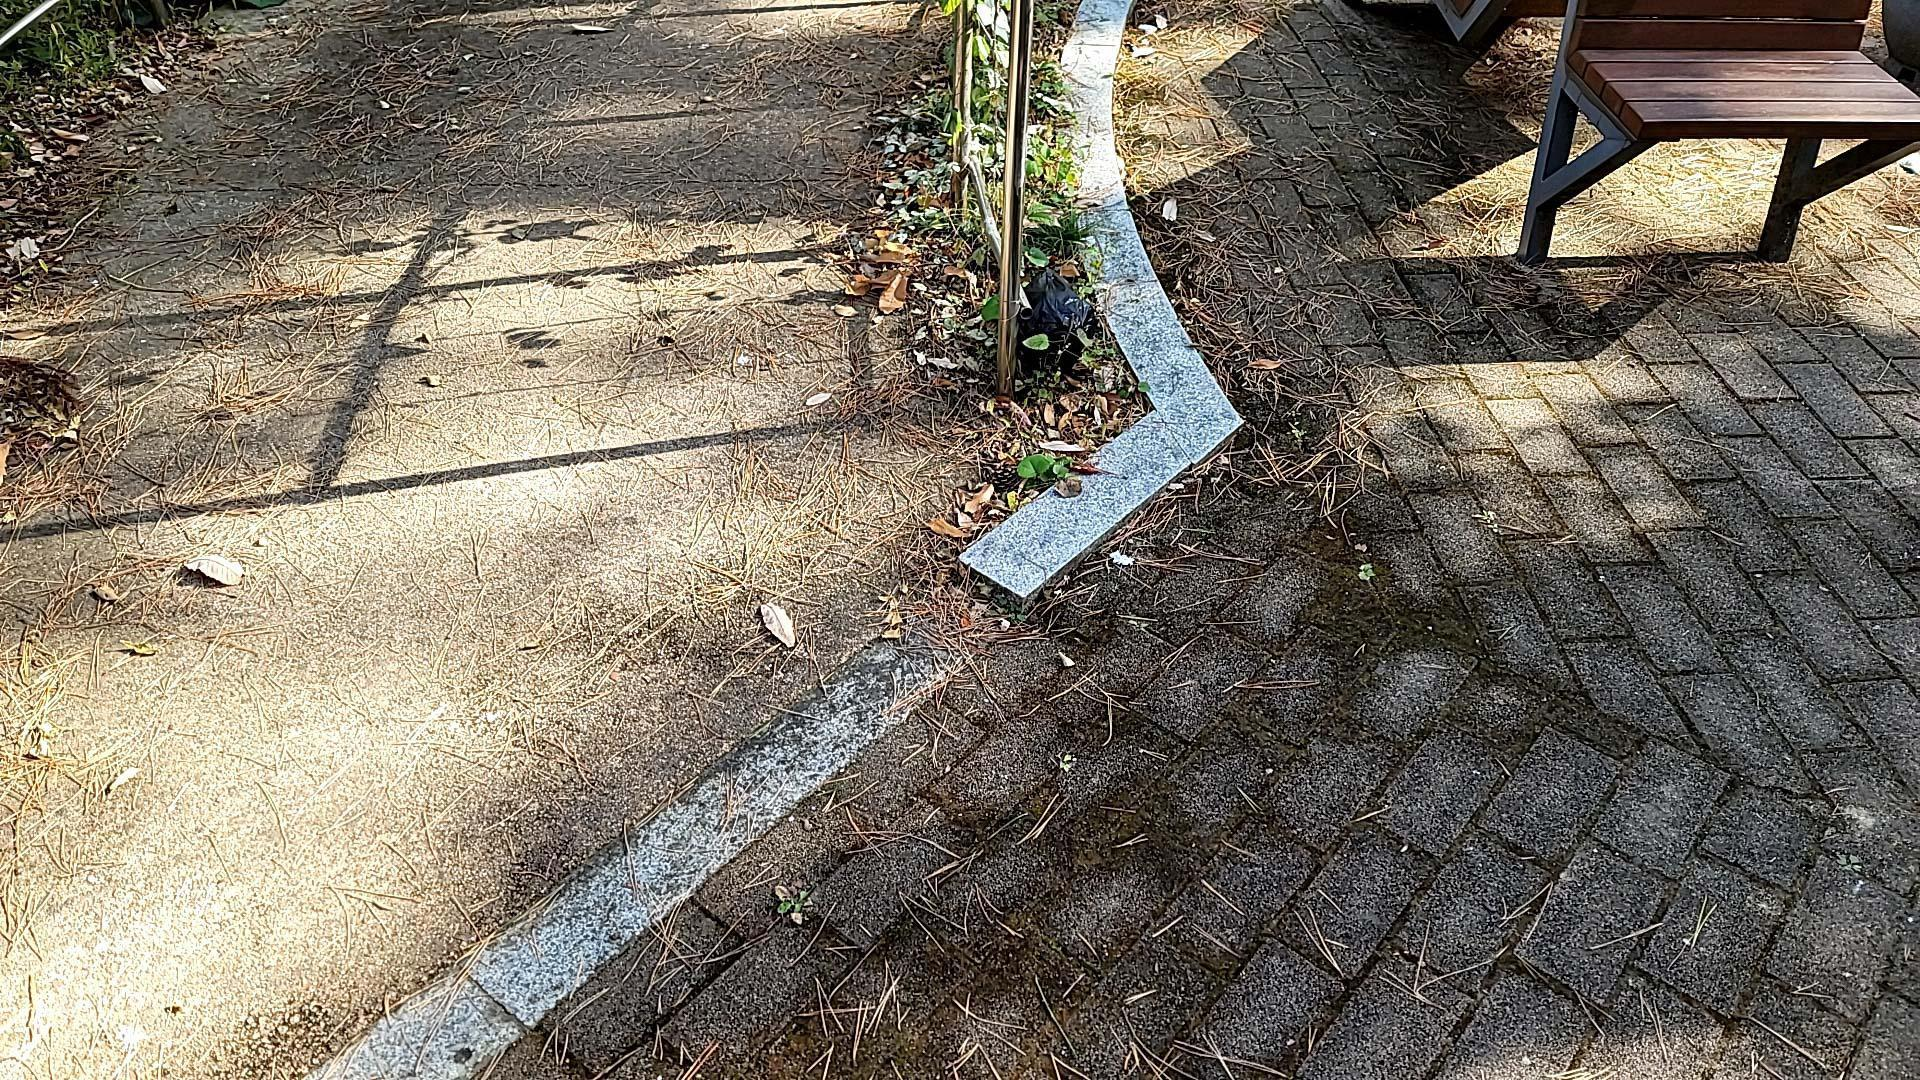black_bag: (1013, 266, 1102, 382)
